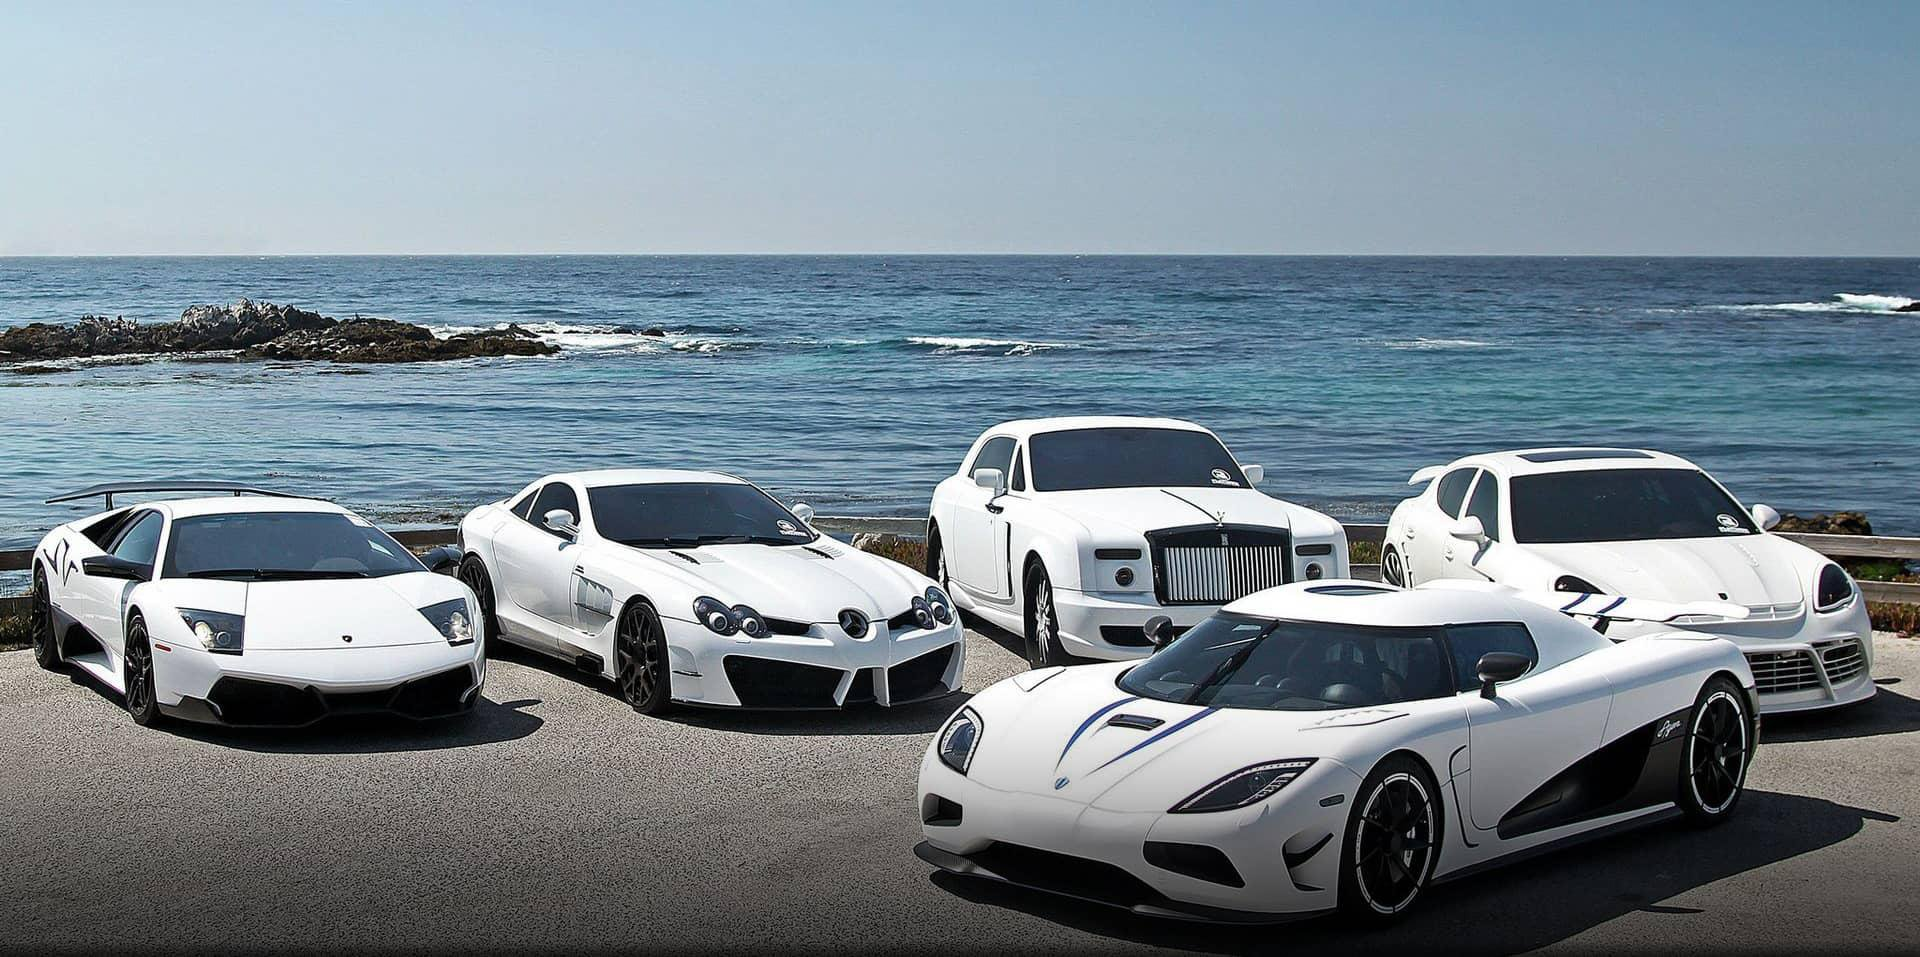car: (917, 575, 1766, 926), (1384, 452, 1887, 724), (462, 463, 970, 712), (26, 472, 493, 732), (918, 409, 1365, 652)
